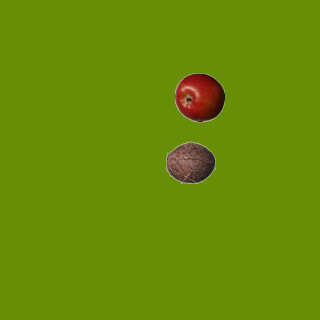Apple Braeburn: (174, 72, 224, 122)
Cocos: (165, 137, 215, 187)
